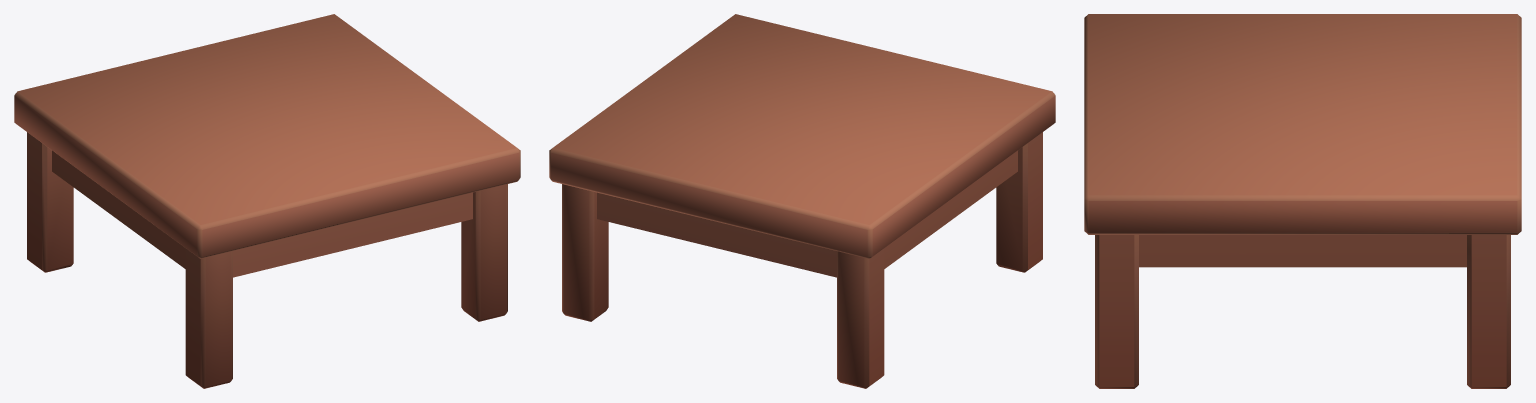
Rendered from table.glb.
The picture shows the model from 3 angles, left to right: view 1: azimuth 30°, elevation 25°; view 2: azimuth 150°, elevation 25°; view 3: azimuth 270°, elevation 25°; orthographic projection. The views are drawn at different scales.
Parts seen in each view (by area): view 1: table_medium; view 2: table_medium; view 3: table_medium.
Boxes of the visible parts, <box> form: table_medium: <box>14,14,520,388</box>; table_medium: <box>549,14,1055,388</box>; table_medium: <box>1084,14,1521,388</box>.
Bounding box in the file's own units: 2 × 1 × 2.
Materials: 1 (1 with a texture image).
